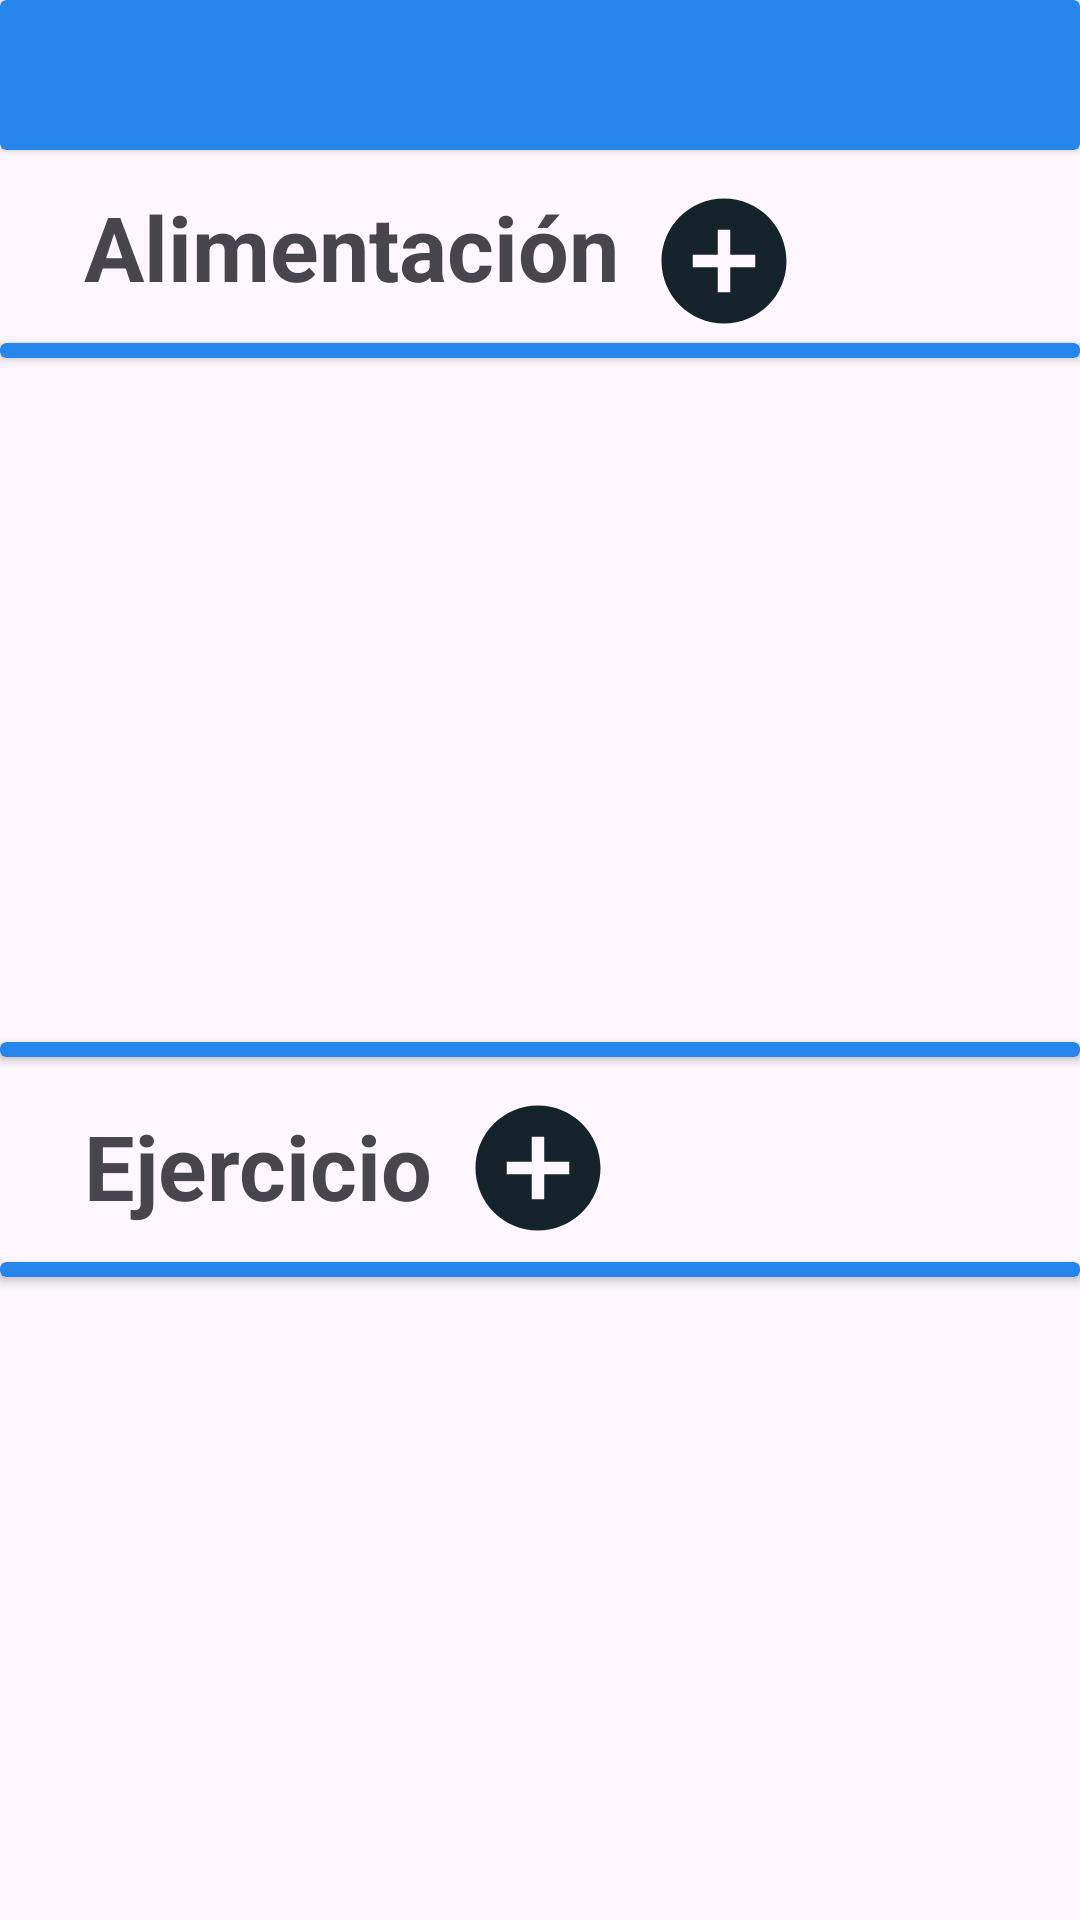

Icon click points for this 1080px x 1920px phone screenshot, format (x=x, y=y):
add circle: (x=724, y=261), (x=538, y=1168)
